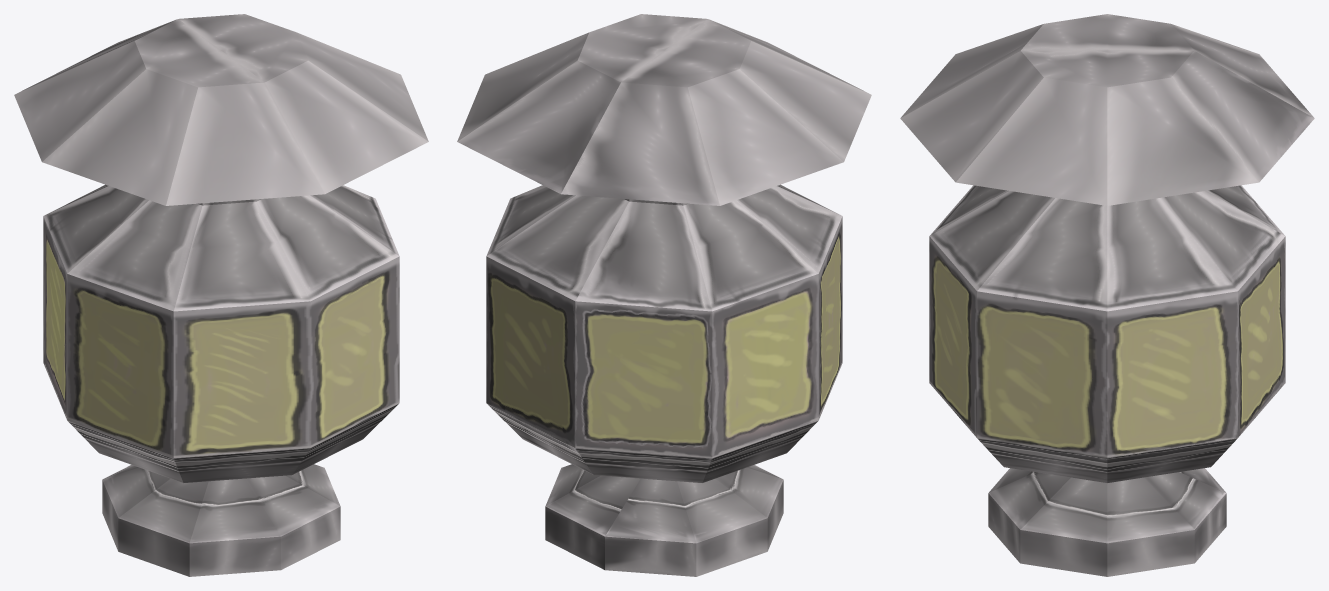
The model's file is Luminaria.fbx.
3 renders of one model, left to right at view 1: azimuth 30°, elevation 25°; view 2: azimuth 150°, elevation 25°; view 3: azimuth 270°, elevation 25°, orthographic.
Parts seen in each view (by area): view 1: Cube; view 2: Cube; view 3: Cube.
Part boxes in pixels (bbox=[...]): Cube: bbox=[14, 14, 428, 576]; Cube: bbox=[457, 14, 871, 576]; Cube: bbox=[900, 14, 1314, 576].
Bounding box in the file's own units: 4.71 × 5.97 × 4.71.
